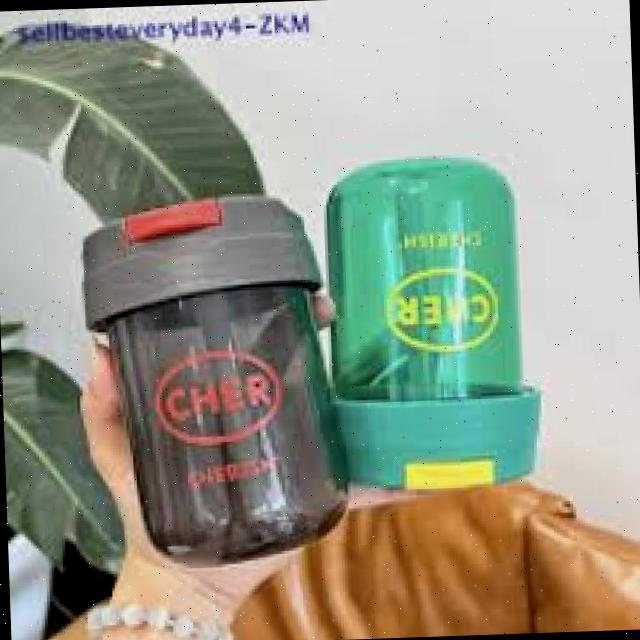bottle: (54, 185, 367, 578), (322, 140, 558, 510)
